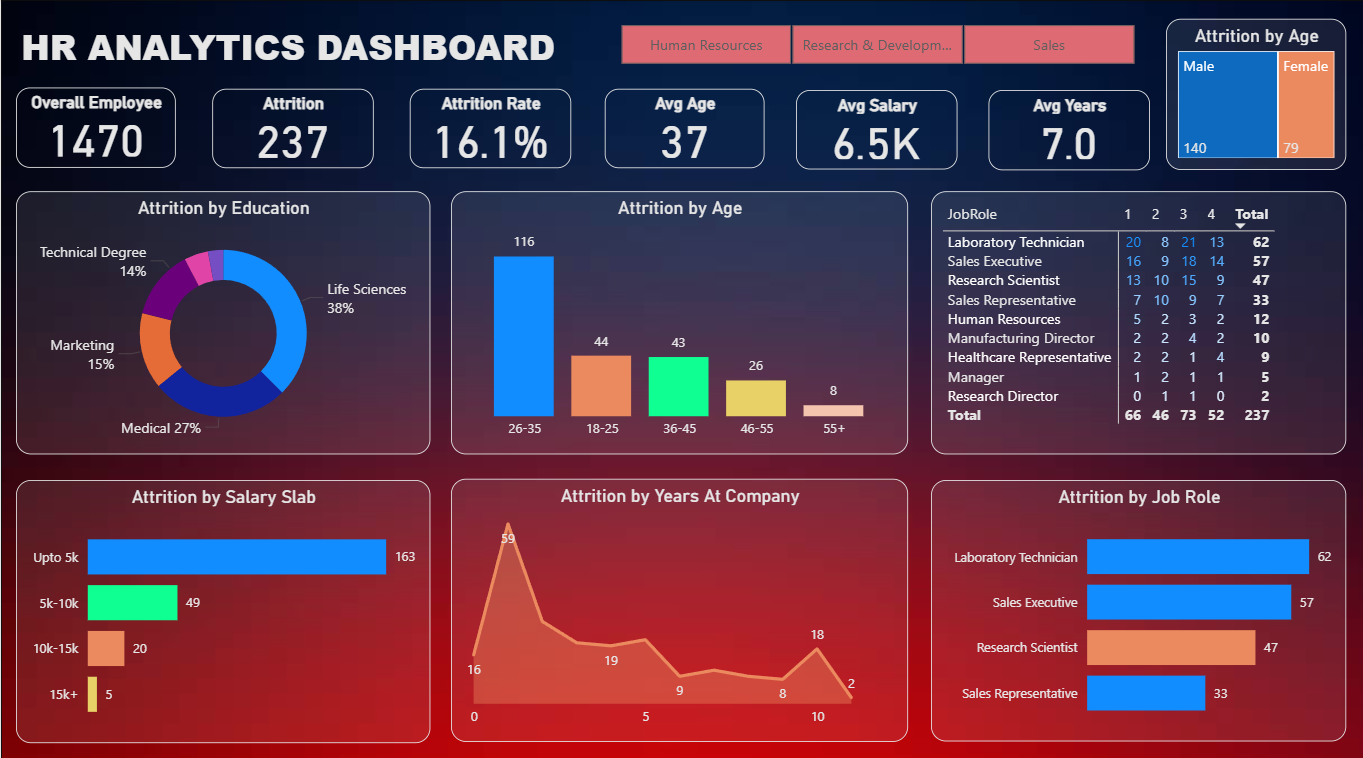

This screenshot's page, from the dashboard's own definition file:
{"tool":"powerbi","page":{"name":"Page 1","canvas":[1280,720],"ordinal":0},"visuals":[{"type":"card","title":"Overall Employee","fields":{"Values":["CountNonNull(HR_Analytics.EmpID)"]},"box":[13.7,82.5,149.7,74.8],"z":0},{"type":"card","title":"Attrition Rate","fields":{"Values":["HR_Analytics.AttritionRate"]},"box":[382.2,83.1,150.9,74.8],"z":1000},{"type":"card","title":"Avg Age","fields":{"Values":["Avg(HR_Analytics.Age)"]},"box":[564.9,83.1,149.5,74.8],"z":2000},{"type":"card","title":"Attrition","fields":{"Values":["Sum(HR_Analytics.AttritionCount)"]},"box":[198,83.1,150.9,74.8],"z":3000},{"type":"card","title":"Avg Salary","fields":{"Values":["Avg(HR_Analytics.MonthlyIncome)"]},"box":[744.9,84.5,150.9,74.8],"z":4000},{"type":"card","title":"Avg Years","fields":{"Values":["Avg(HR_Analytics.YearsAtCompany)"]},"box":[924.6,84.3,151,74.9],"z":5000},{"type":"donutChart","title":"Attrition by Education","fields":{"Category":["HR_Analytics.EducationField"],"Y":["Sum(HR_Analytics.AttritionCount)"]},"box":[13.8,178.6,387.7,246.5],"z":6000},{"type":"clusteredColumnChart","title":"Attrition by Age","fields":{"Category":["HR_Analytics.AgeGroup"],"Y":["Sum(HR_Analytics.AttritionCount)"]},"box":[420.9,178.6,427.8,246.5],"z":7000},{"type":"pivotTable","fields":{"Rows":["HR_Analytics.JobRole"],"Columns":["HR_Analytics.JobSatisfaction"],"Values":["Sum(HR_Analytics.AttritionCount)"]},"box":[870.9,178.6,389.1,246.5],"z":8000},{"type":"barChart","title":"Attrition by Salary Slab","fields":{"Category":["HR_Analytics.SalarySlab"],"Y":["Sum(HR_Analytics.AttritionCount)"]},"box":[13.8,450,387.7,246.5],"z":9000},{"type":"barChart","title":"Attrition by Job Role","fields":{"Category":["HR_Analytics.JobRole"],"Y":["Sum(HR_Analytics.AttritionCount)"]},"box":[870.9,450,389.1,245.1],"z":10000},{"type":"areaChart","title":"Attrition by Years At Company","fields":{"Y":["Sum(HR_Analytics.AttritionCount)"],"Category":["HR_Analytics.YearsAtCompany"]},"box":[420.9,448.6,427.8,246.5],"z":11000},{"type":"treemap","title":"Attrition by Age","fields":{"Group":["HR_Analytics.Gender"],"Values":["Sum(HR_Analytics.AttritionCount)"]},"box":[1090.8,17.6,168.5,141.6],"z":12000},{"type":"slicer","fields":{"Values":["HR_Analytics.Department"]},"box":[554.5,16.8,530,50.4],"z":13000},{"type":"textbox","box":[13.8,16.6,551.1,59.5],"z":14000}]}

Visuals, with their boxes in screenshot pixels (x1, y1, x2, y2), scaled from the page's 1280x720 canvas onto the 1363x758 screenshot:
"Overall Employee" card: pyautogui.locateOnScreen(15, 87, 174, 166)
"Attrition Rate" card: pyautogui.locateOnScreen(407, 87, 568, 166)
"Avg Age" card: pyautogui.locateOnScreen(602, 87, 761, 166)
"Attrition" card: pyautogui.locateOnScreen(211, 87, 372, 166)
"Avg Salary" card: pyautogui.locateOnScreen(793, 89, 954, 168)
"Avg Years" card: pyautogui.locateOnScreen(985, 89, 1145, 168)
"Attrition by Education" donutChart: pyautogui.locateOnScreen(15, 188, 428, 448)
"Attrition by Age" clusteredColumnChart: pyautogui.locateOnScreen(448, 188, 904, 448)
pivotTable - HR_Analytics.JobRole x HR_Analytics.JobSatisfaction: pyautogui.locateOnScreen(927, 188, 1342, 448)
"Attrition by Salary Slab" barChart: pyautogui.locateOnScreen(15, 474, 428, 733)
"Attrition by Job Role" barChart: pyautogui.locateOnScreen(927, 474, 1342, 732)
"Attrition by Years At Company" areaChart: pyautogui.locateOnScreen(448, 472, 904, 732)
"Attrition by Age" treemap: pyautogui.locateOnScreen(1162, 19, 1341, 168)
slicer - HR_Analytics.Department: pyautogui.locateOnScreen(590, 18, 1155, 71)
textbox: pyautogui.locateOnScreen(15, 17, 602, 80)
